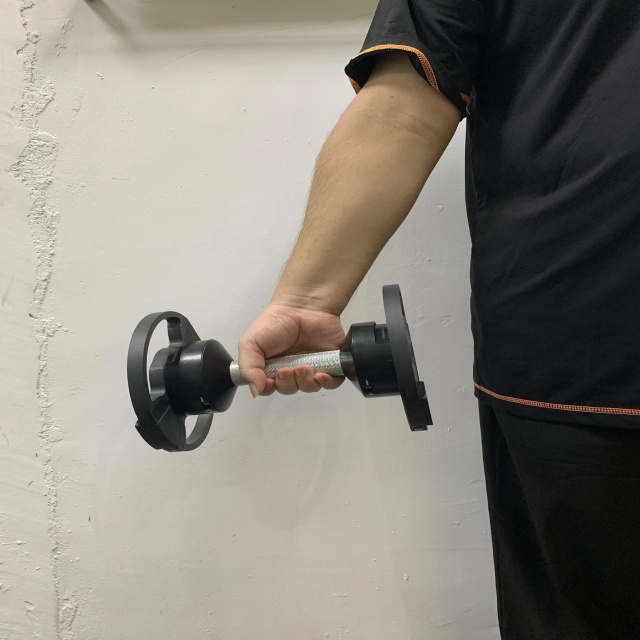01-2kg: (124, 283, 437, 455)
